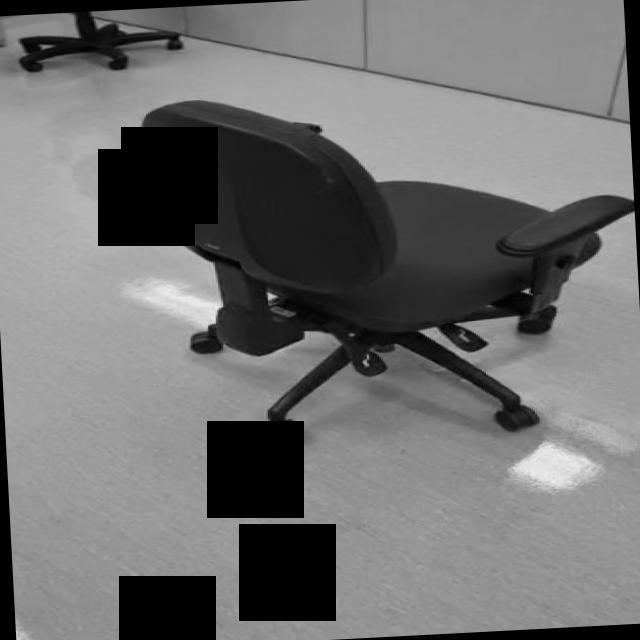chair: (139, 81, 640, 452)
